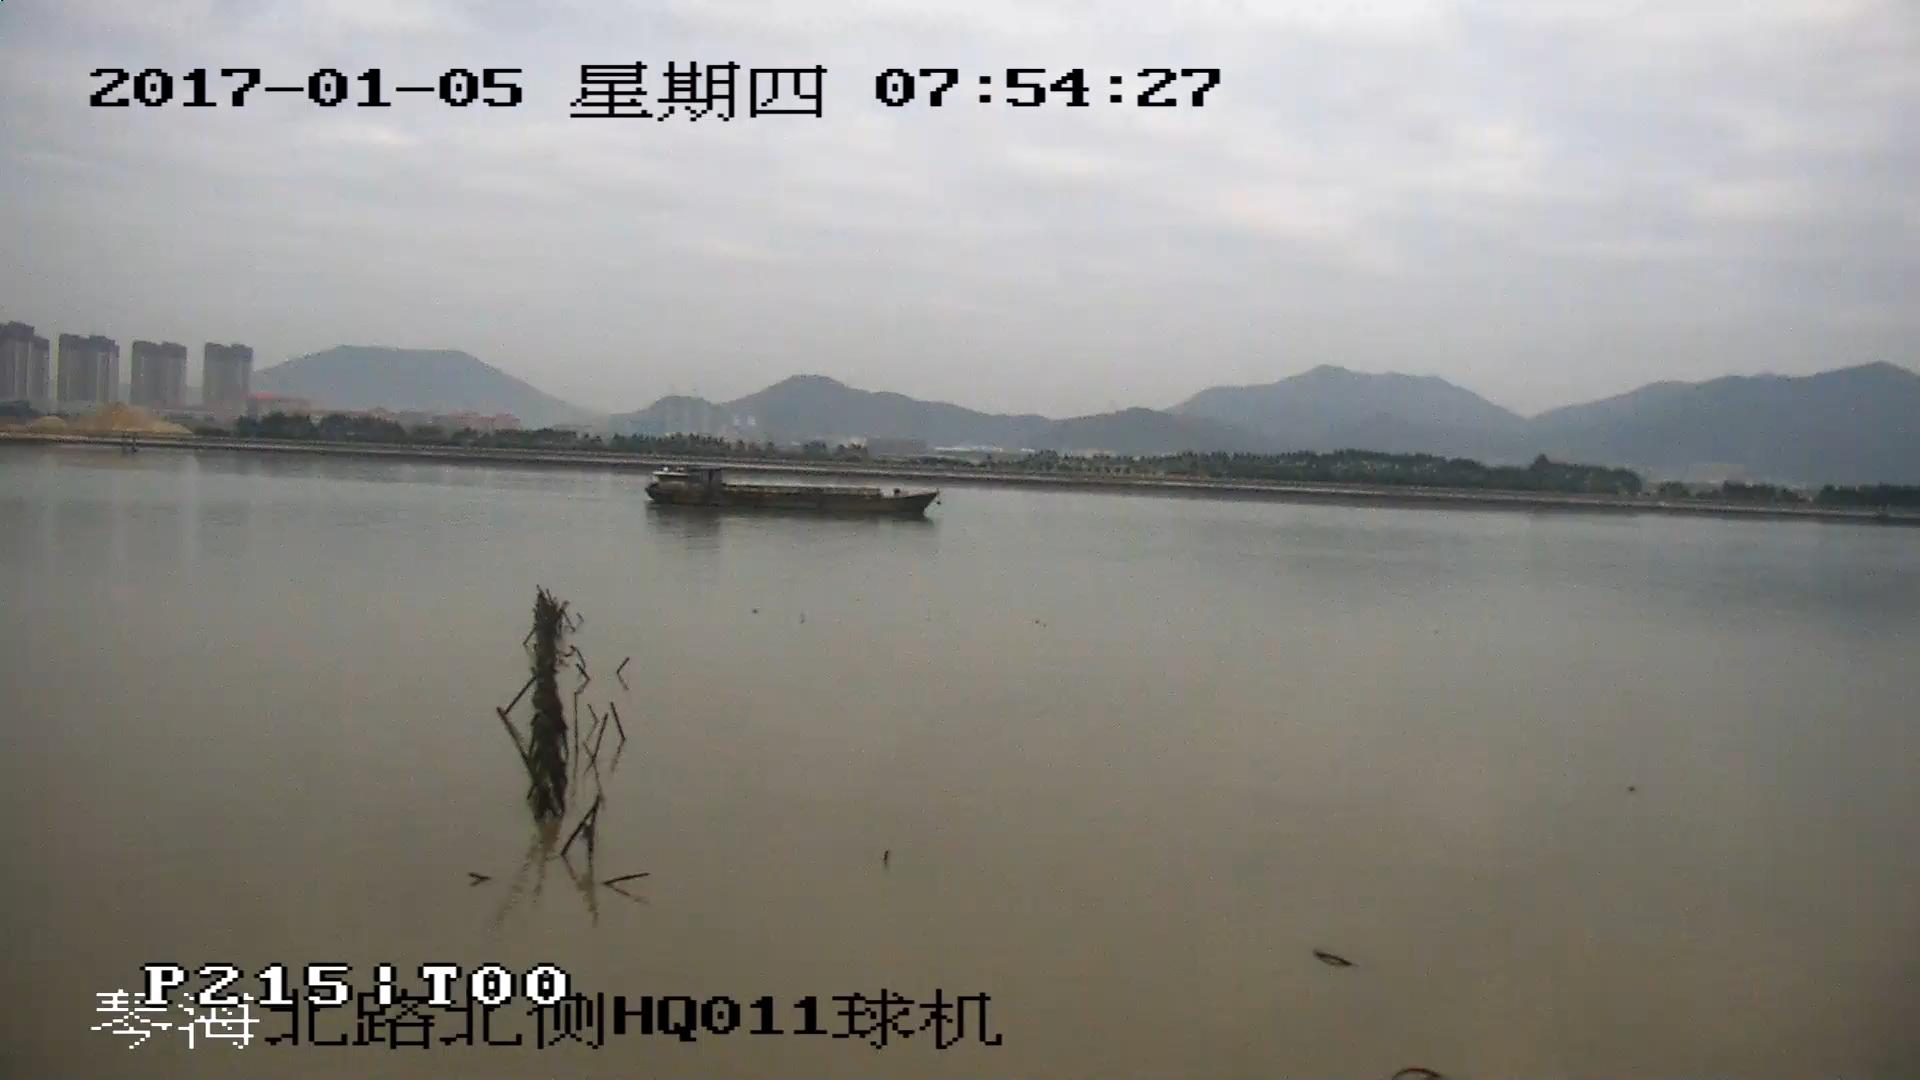bulk cargo carrier: (641, 466, 934, 516)
